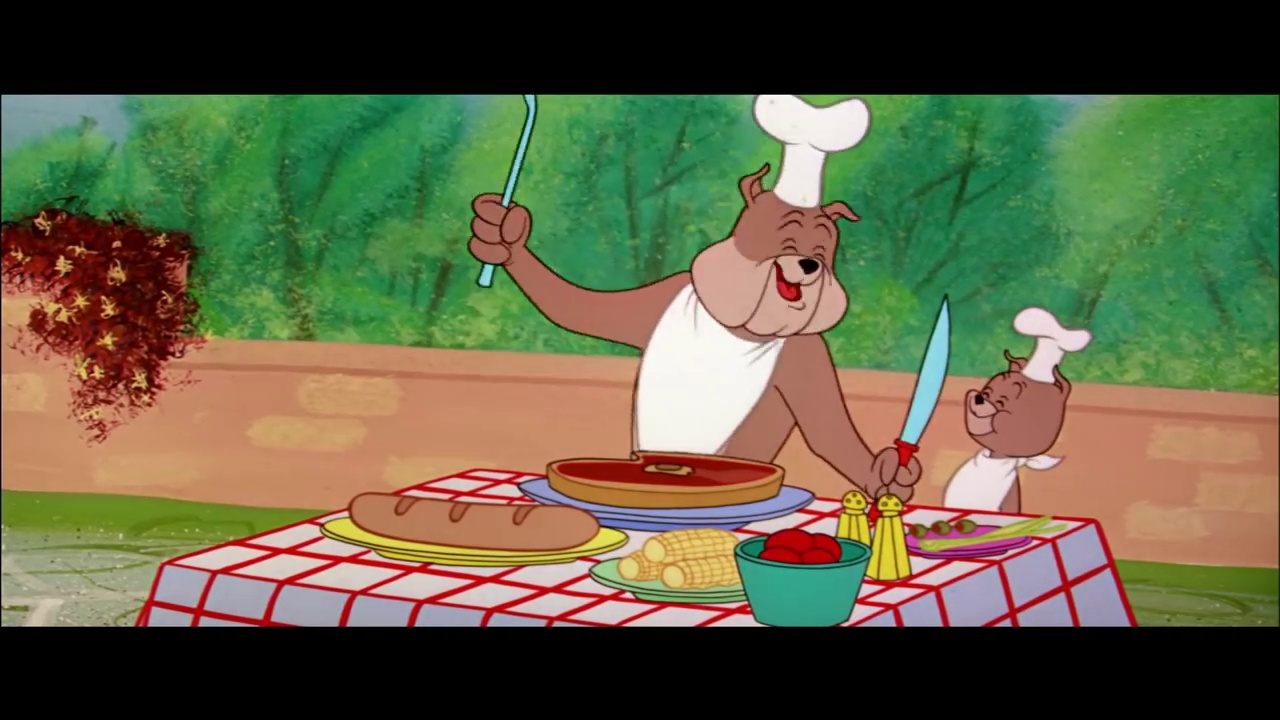spike: (684, 162, 868, 343)
